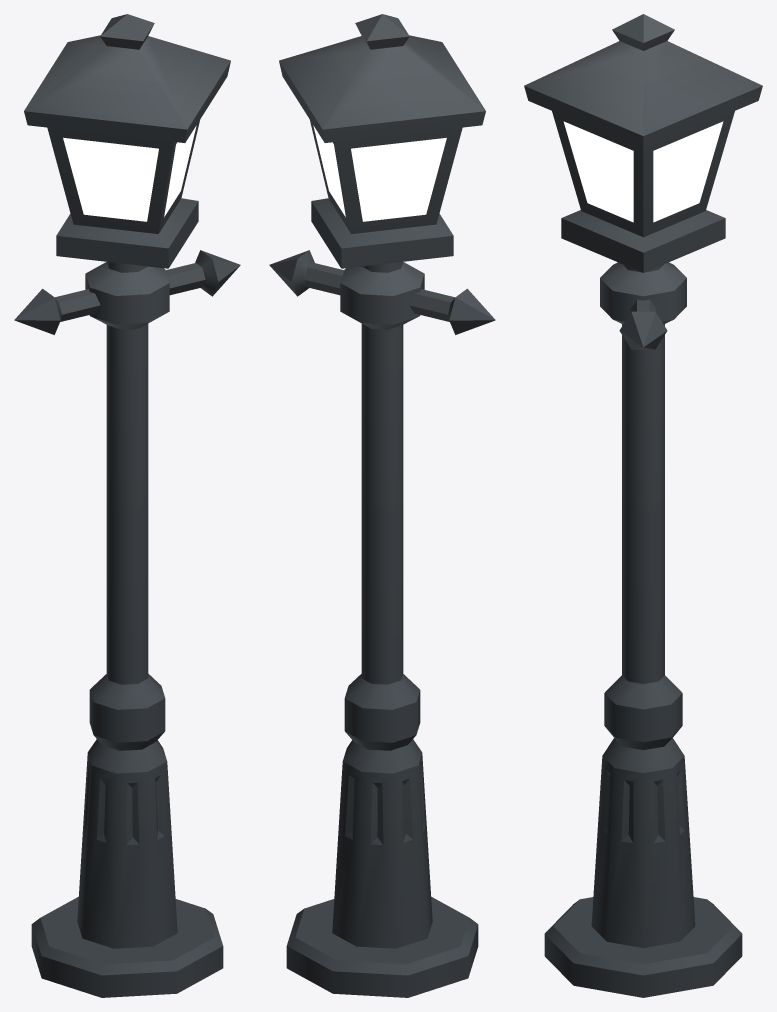
Rendered from lantern.gltf.
3 renders of one model, left to right at view 1: azimuth 30°, elevation 25°; view 2: azimuth 150°, elevation 25°; view 3: azimuth 270°, elevation 25°, orthographic.
Parts seen in each view (by area): view 1: lantern; view 2: lantern; view 3: lantern.
Boxes of the visible parts, x1,y1,x2,y2 form: lantern: [14, 14, 240, 997]; lantern: [269, 14, 495, 997]; lantern: [524, 14, 762, 997].
Bounding box in the file's own units: 0.9912 × 3.94 × 0.9051.
2 materials, 2 textured.
